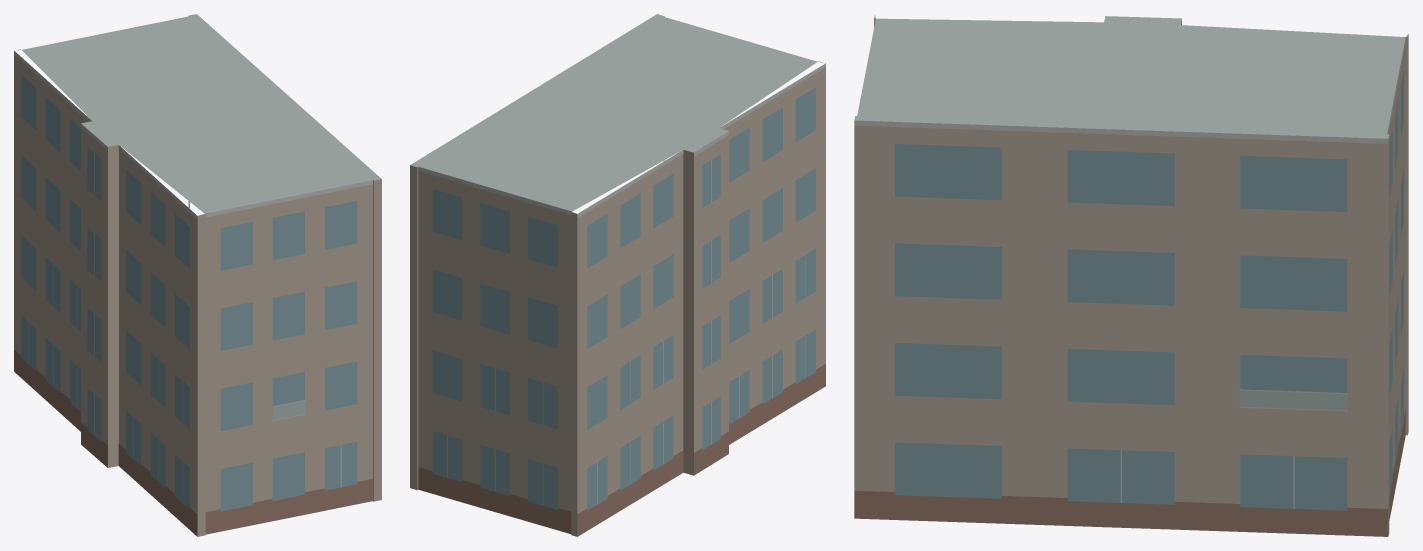
File: survey-upis-32837642.glb
3 renders of one model, left to right at view 1: azimuth 30°, elevation 25°; view 2: azimuth 150°, elevation 25°; view 3: azimuth 270°, elevation 25°, orthographic. The views are drawn at different scales.
Visible parts, largest first — view 1: survey-upis-32837642.tmp; view 2: survey-upis-32837642.tmp; view 3: survey-upis-32837642.tmp.
Part boxes in pixels (x1,y1,x2,y2): survey-upis-32837642.tmp: [14, 14, 381, 536]; survey-upis-32837642.tmp: [410, 14, 825, 536]; survey-upis-32837642.tmp: [854, 14, 1408, 536].
Size of the model in its own units: 12.92 by 19.2 by 24.24.
